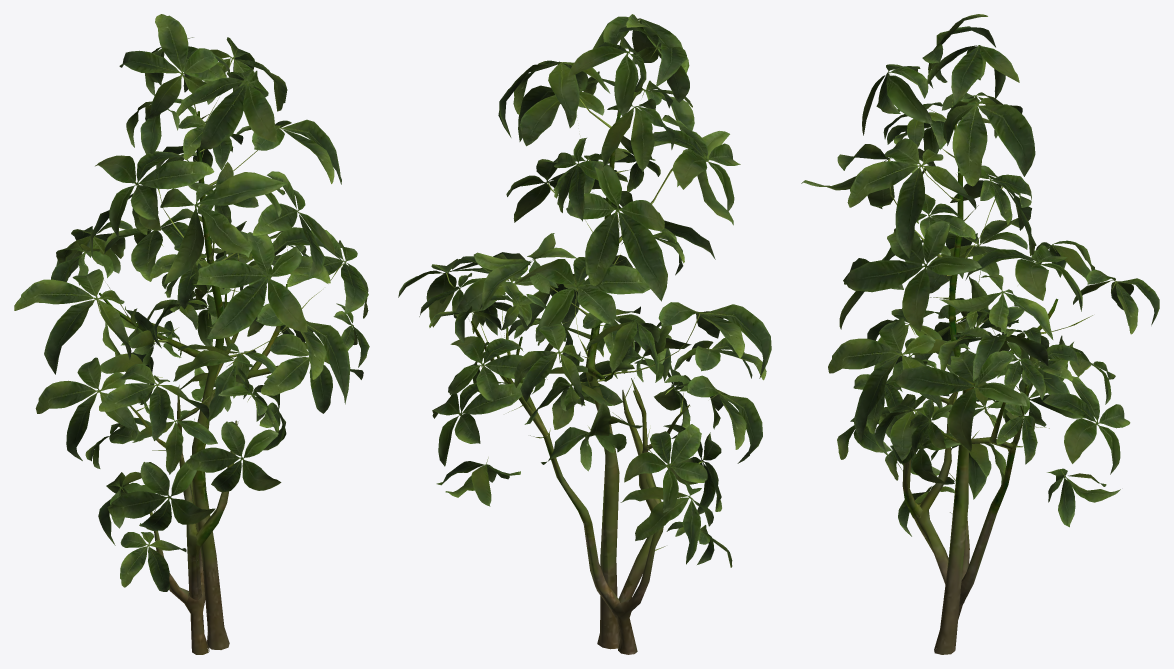
Rendered from plant-tree-balanced-d50e6369f6.glb.
3 views of the same model, side by side, from view 1: azimuth 30°, elevation 25°; view 2: azimuth 150°, elevation 25°; view 3: azimuth 270°, elevation 25° (orthographic). The views are drawn at different scales.
Parts seen in each view (by area): view 1: pachira_aquatica_01_bark_d; view 2: pachira_aquatica_01_bark_d; view 3: pachira_aquatica_01_bark_d.
Part boxes in pixels (<box>): pachira_aquatica_01_bark_d: <box>14,14,369,654</box>; pachira_aquatica_01_bark_d: <box>398,14,771,654</box>; pachira_aquatica_01_bark_d: <box>801,14,1159,654</box>.
Bounding box in the file's own units: 1.05 × 1.9 × 0.9977.
2 materials, 2 textured.
